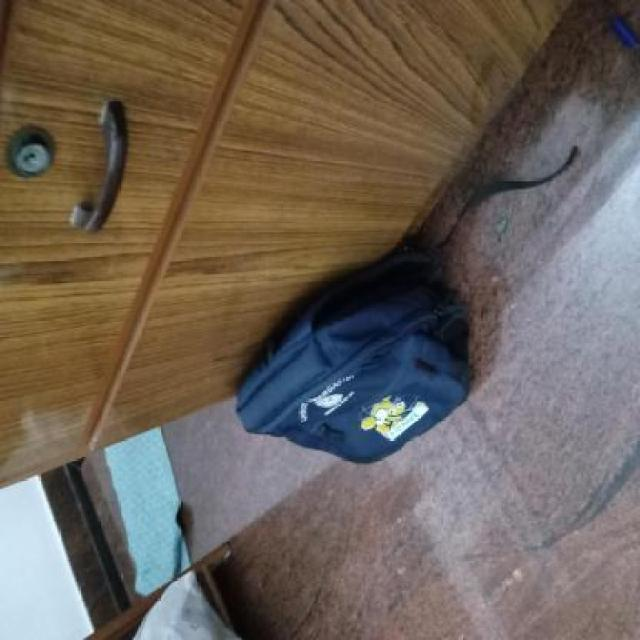backpack: (231, 235, 475, 471)
